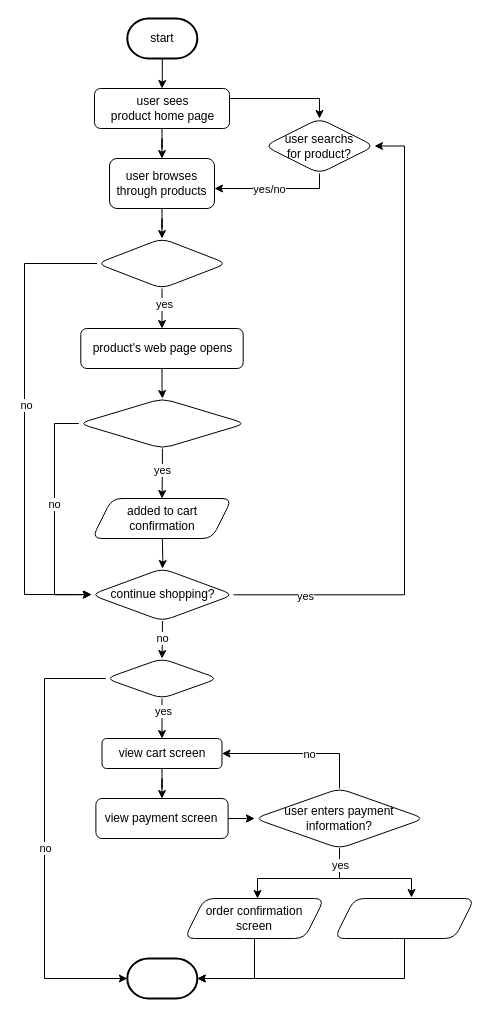
The diagram is 492 pixels wide and 1016 high, and some of its shapes have lost their labels. The shapes that lost their labels are listed below. From the top down, each one's centre as x and y in pixels, then its label:
the point at 161,263: user view product?
the point at 162,423: user add item to cart?
the point at 161,678: checkout?
the point at 404,918: order confirmation email
the point at 162,978: end
